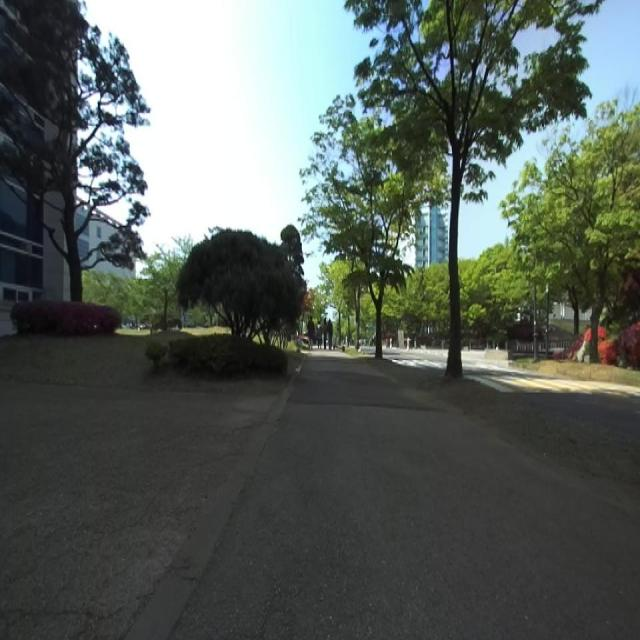sidewalk: (176, 356, 640, 638), (0, 382, 276, 639), (126, 373, 296, 640)
